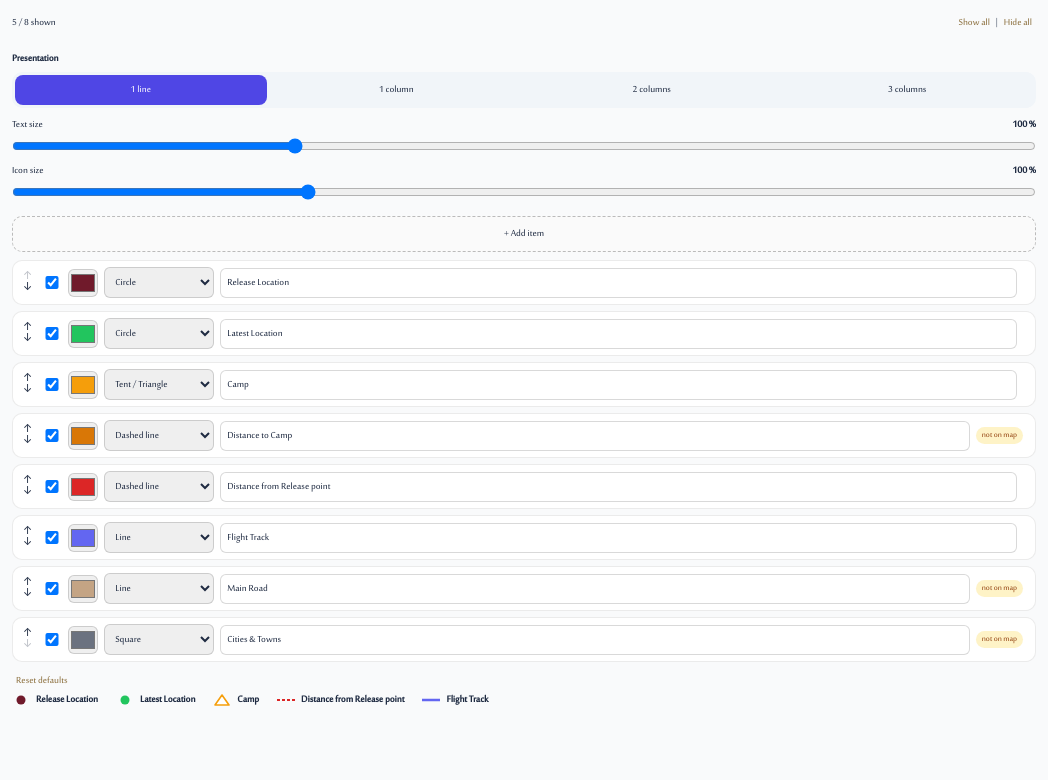
Test: Legend editor ↔ map legend stay in sync › eye, colour, shape, reorder, reset, custom items all reach the map legend
This screenshot has width=1048, height=780.
Click the checkbox named "Show Camp". click: click(52, 384)
box: [42,378,62,391]
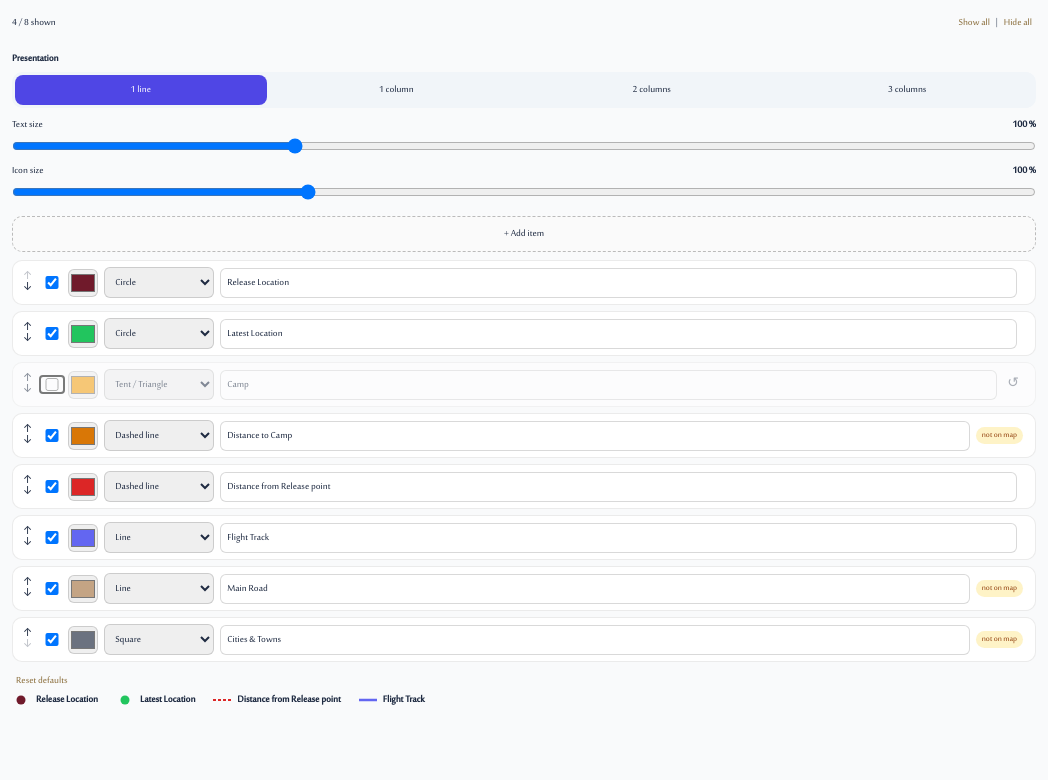
Click the checkbox named "Show Camp". click: click(52, 384)
box: [42,378,62,391]
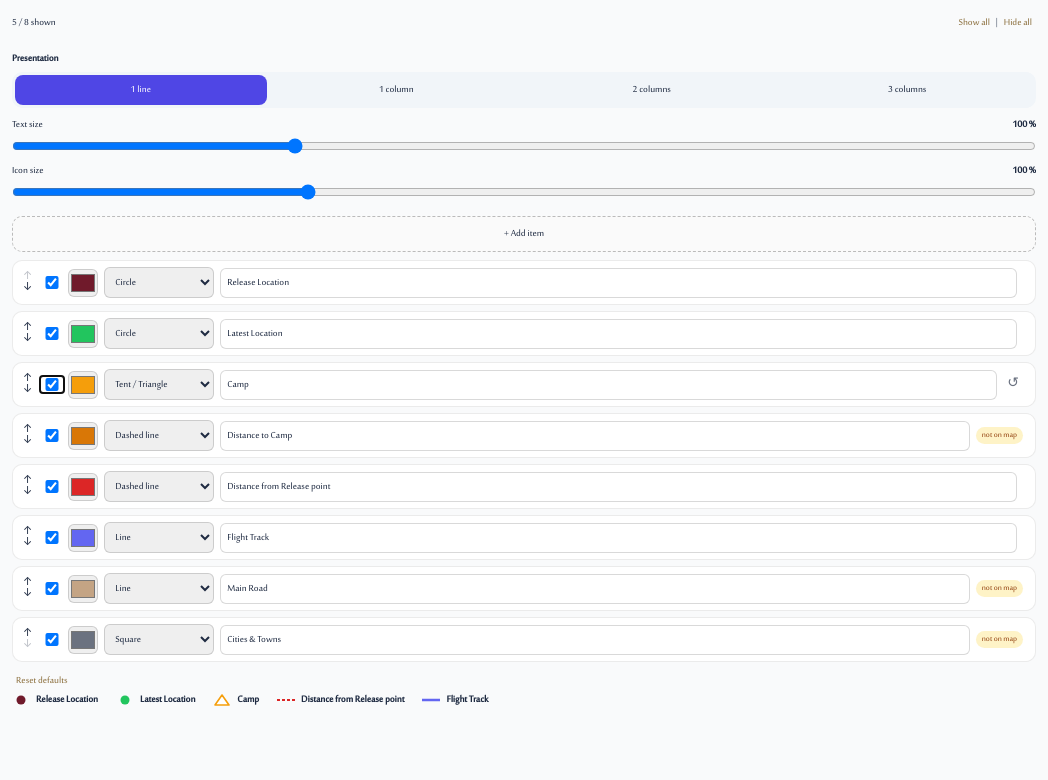
Now the text "Camp" is shown, box [237,692,259,707]
Type "#ff0000" into the colour field named "Flight Track colour". click: (83, 538)
box: [68,524,98,552]
Select "Dashed line" in the dropdown named "Flight Track shape". click: (159, 538)
box: [104,522,214,553]
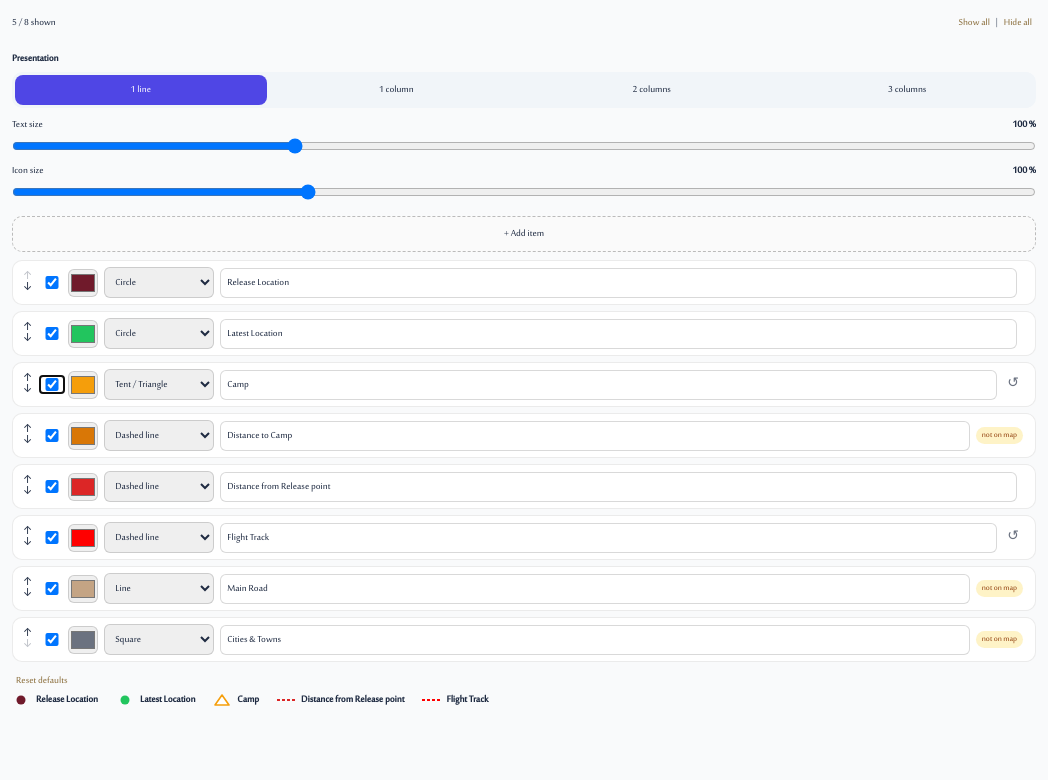
Click the button named "Move Flight Track up". click: click(28, 532)
box: [19,526,36,538]
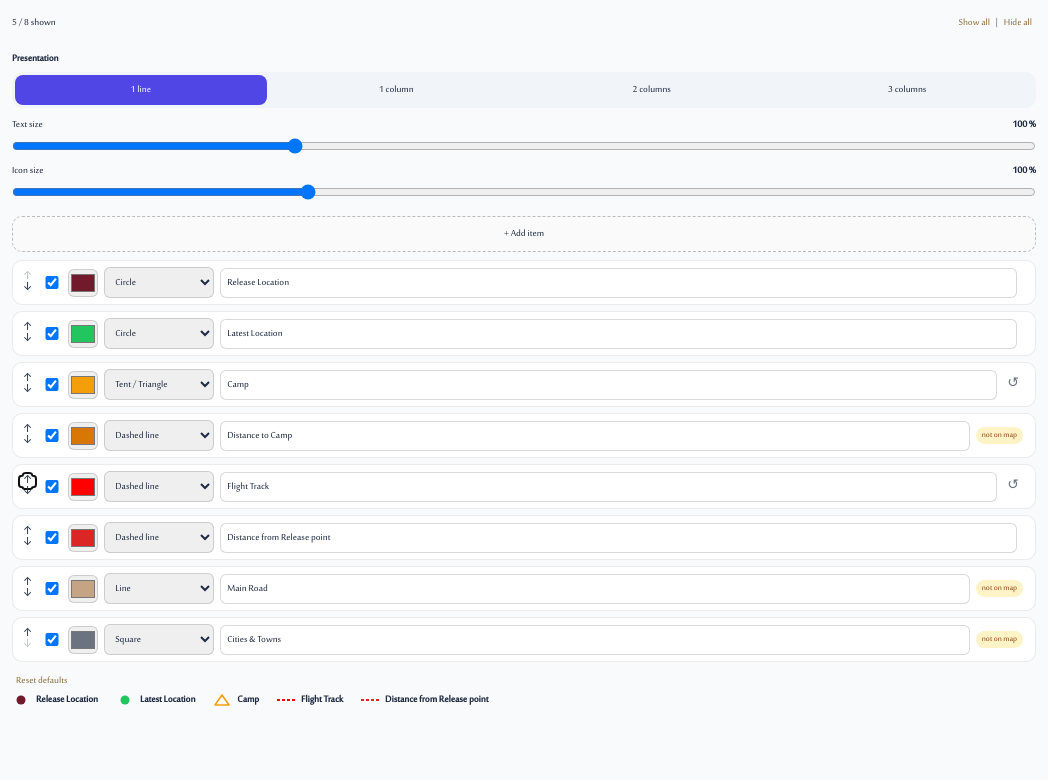
Click the button named "Reset Flight Track". click: click(1013, 486)
box: [1003,476,1023,498]
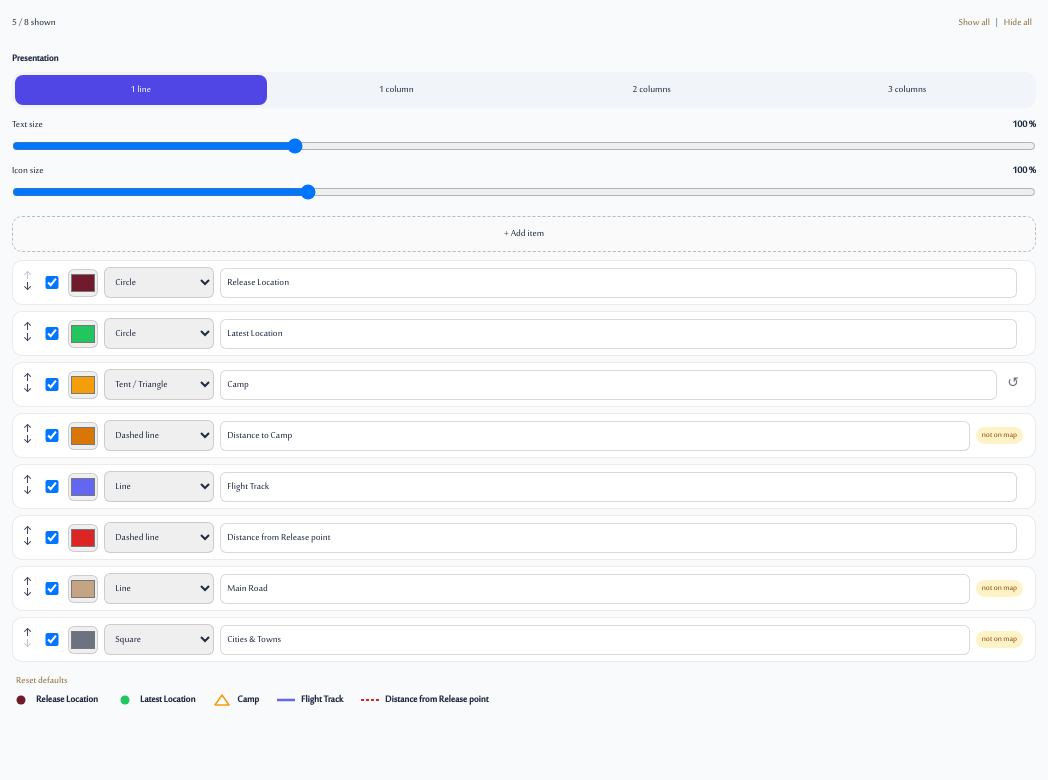
Click the button "+ Add item". click: click(524, 234)
box: [12,216,1036,252]
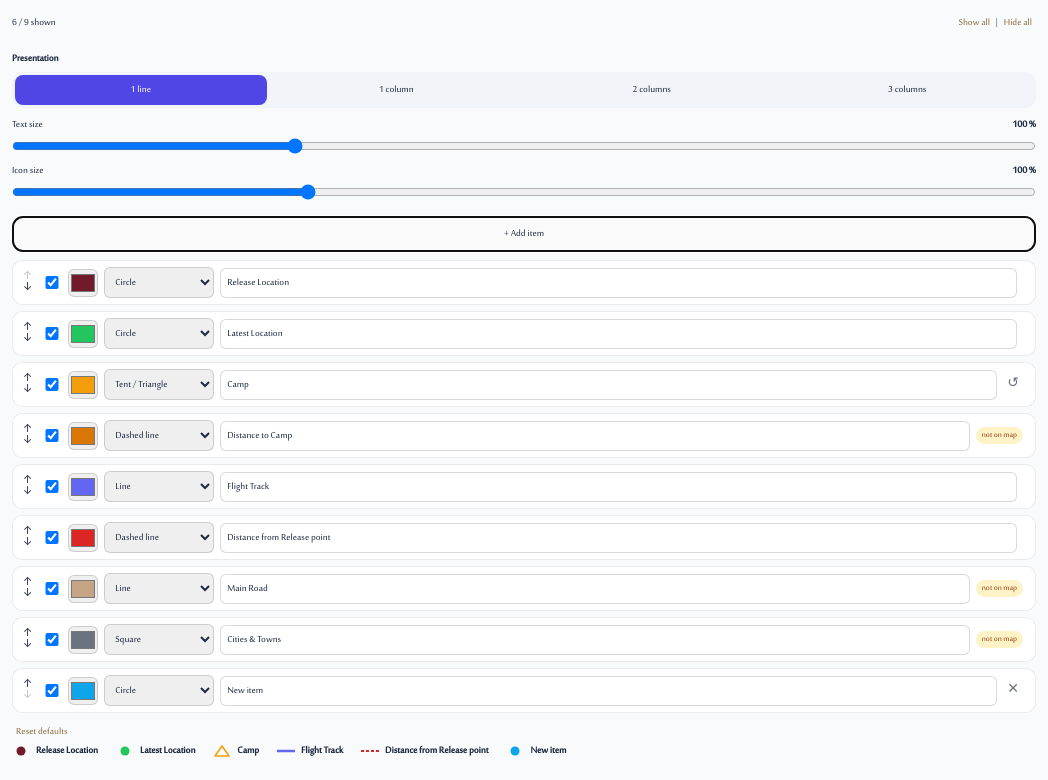
Now the text "New item" is shown, box [530,743,566,758]
